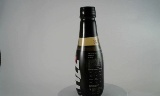appyfizz: (68, 5, 98, 95)
